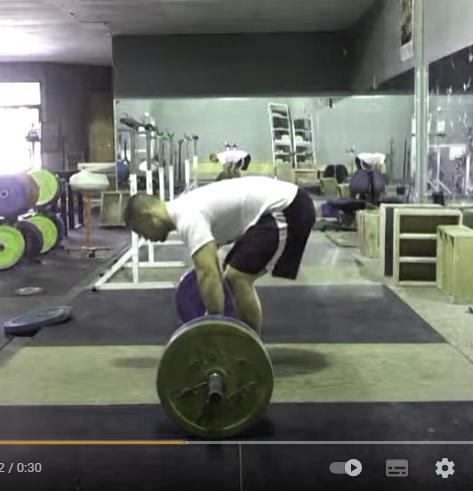Barbell: (205, 389, 227, 408)
